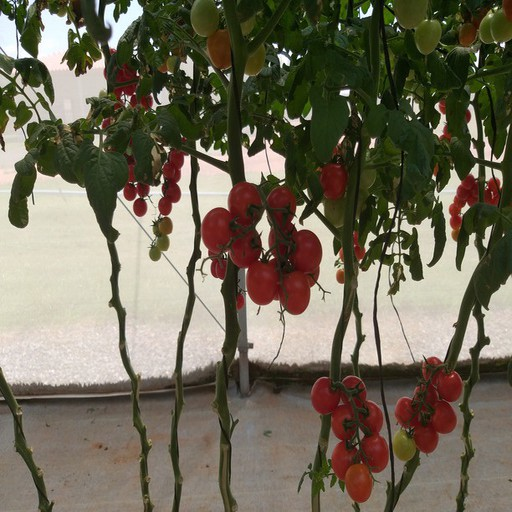green tomato bunch: (395, 1, 511, 56), (184, 1, 266, 75)
mixed tomato bunch: (321, 141, 374, 282)
red tomato bunch: (203, 183, 321, 314), (313, 375, 389, 501), (393, 356, 463, 462), (104, 118, 149, 216), (448, 174, 509, 241), (101, 48, 152, 114), (155, 138, 191, 219), (436, 97, 469, 173)
